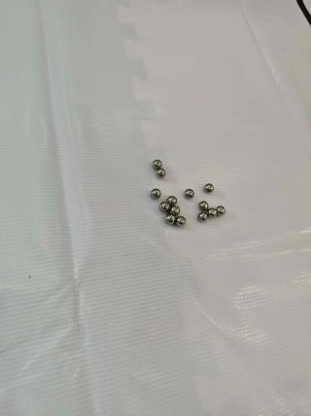ironball: (182, 187, 193, 198), (166, 194, 176, 205), (174, 215, 184, 226), (149, 187, 159, 197), (198, 200, 208, 210), (169, 205, 179, 214), (203, 182, 213, 191), (197, 210, 206, 220), (159, 200, 168, 209), (151, 158, 161, 166), (164, 214, 174, 222), (215, 205, 225, 213), (206, 206, 214, 215), (156, 169, 164, 176)
